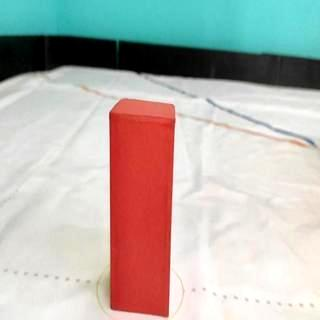redbox: (108, 98, 175, 318)
